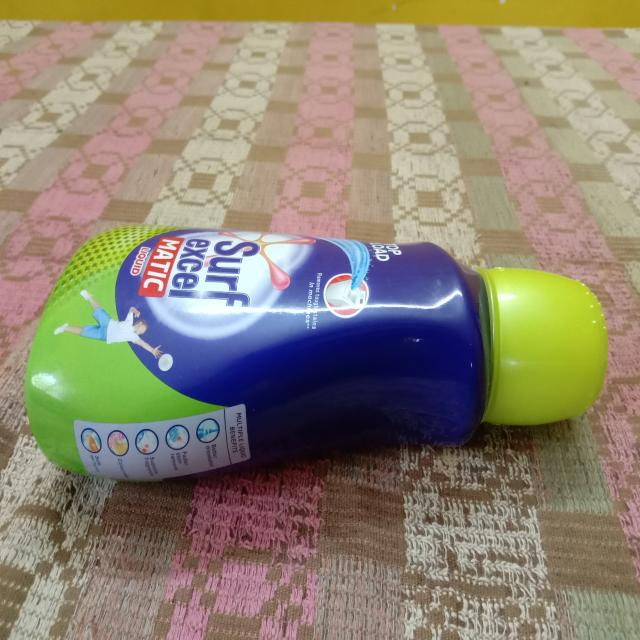detergent: (22, 220, 609, 488)
